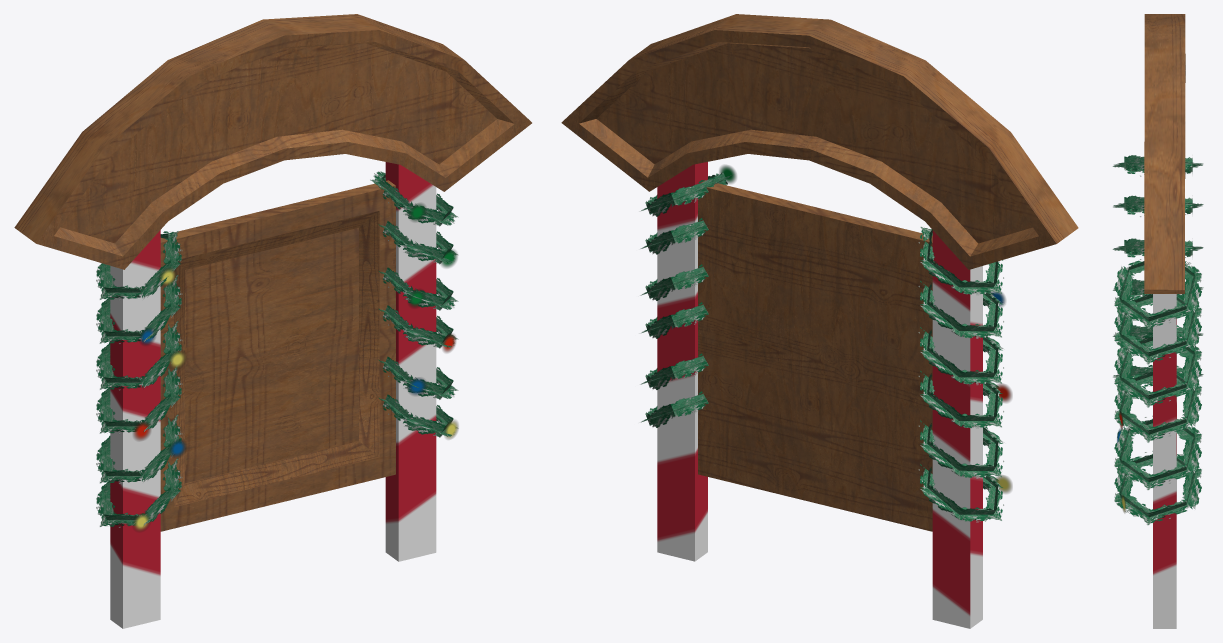
File: WoodPanel01.glb
3 renders of one model, left to right at view 1: azimuth 30°, elevation 25°; view 2: azimuth 150°, elevation 25°; view 3: azimuth 270°, elevation 25°, orthographic. The views are drawn at different scales.
Visible parts, largest first — view 1: WoodPanel01; view 2: WoodPanel01; view 3: WoodPanel01.
Part boxes in pixels (left/top/right/bottom): WoodPanel01: left=14, top=14, right=531, bottom=628; WoodPanel01: left=561, top=14, right=1078, bottom=628; WoodPanel01: left=1113, top=14, right=1203, bottom=628.
Size of the model in its own units: 2.86 by 3.08 by 0.5453.
Materials: 4 (4 with a texture image).
